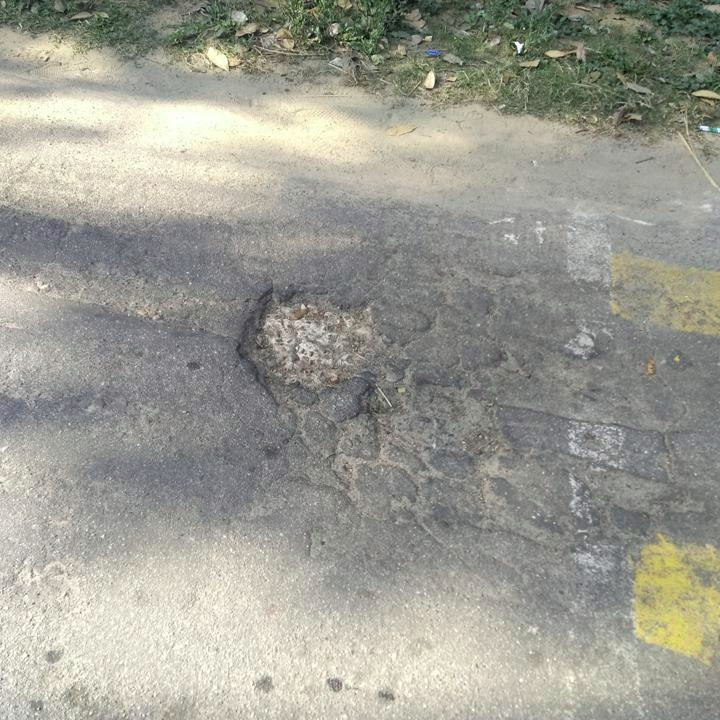pothole: (228, 280, 393, 393), (355, 377, 512, 463)
